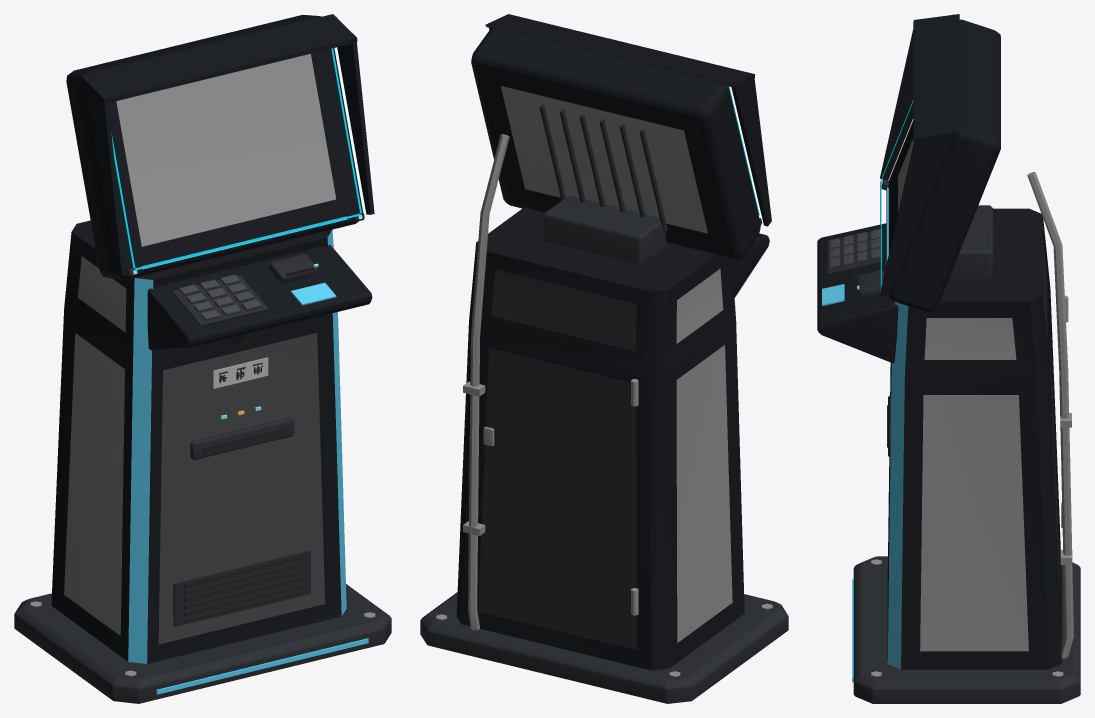
File: Terminal_Kiosk.fbx
The picture shows the model from 3 angles, left to right: view 1: azimuth 30°, elevation 25°; view 2: azimuth 150°, elevation 25°; view 3: azimuth 270°, elevation 25°; orthographic projection. The views are drawn at different scales.
Parts seen in each view (by area): view 1: Terminal_Kiosk_LOD0; view 2: Terminal_Kiosk_LOD0; view 3: Terminal_Kiosk_LOD0.
Boxes of the visible parts, <box> form: Terminal_Kiosk_LOD0: <box>14,14,391,703</box>; Terminal_Kiosk_LOD0: <box>420,14,788,703</box>; Terminal_Kiosk_LOD0: <box>817,14,1080,703</box>.
Size of what is drawn, in the model's own units: 0.82 by 1.65 by 0.6962.
